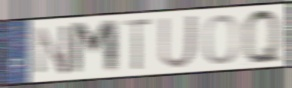M: (69, 18, 121, 78)
N: (34, 22, 71, 76)
O: (202, 13, 240, 66)
Q: (241, 7, 284, 67)
T: (121, 17, 154, 73)
U: (158, 13, 200, 71)
